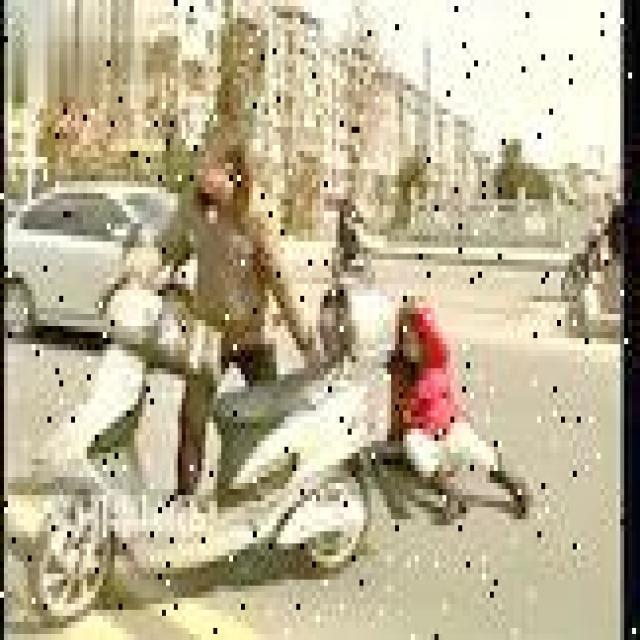fall: (387, 290, 537, 519)
